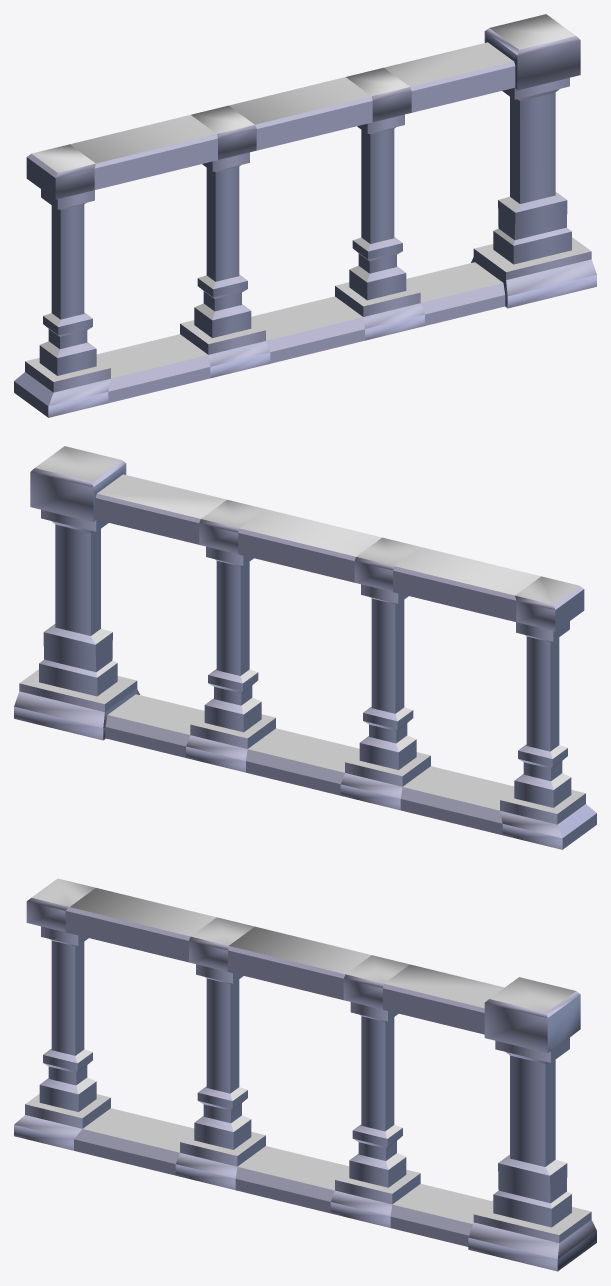
File: Prop_Ballustrade.fbx
The picture shows the model from 3 angles, top to bottom: view 1: azimuth 30°, elevation 25°; view 2: azimuth 150°, elevation 25°; view 3: azimuth 330°, elevation 25°; orthographic projection.
Parts seen in each view (by area): view 1: Ballustrade; view 2: Ballustrade; view 3: Ballustrade.
Part boxes in pixels (left/top/right/bottom): Ballustrade: left=14, top=14, right=596, bottom=417; Ballustrade: left=14, top=446, right=596, bottom=849; Ballustrade: left=14, top=878, right=596, bottom=1271.
Size of the model in its own units: 689 by 303 by 85.7.
